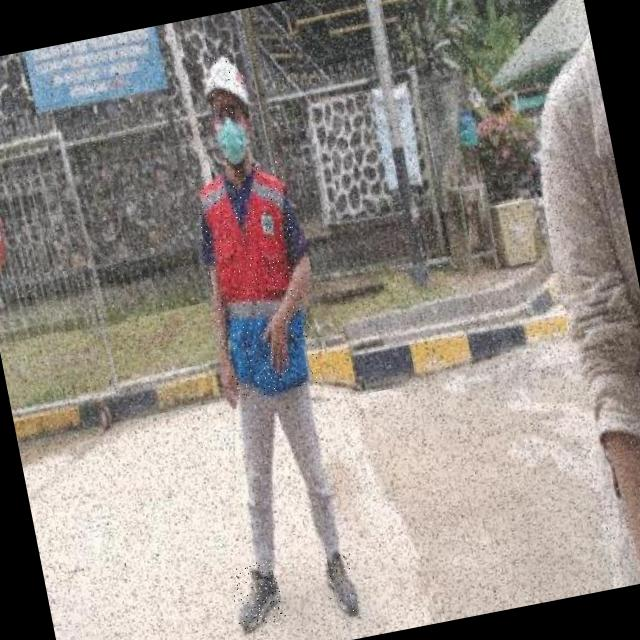hard_hat: (196, 44, 255, 121)
safety_vest: (188, 158, 324, 403)
work_boots: (228, 559, 288, 632), (316, 546, 362, 619)
